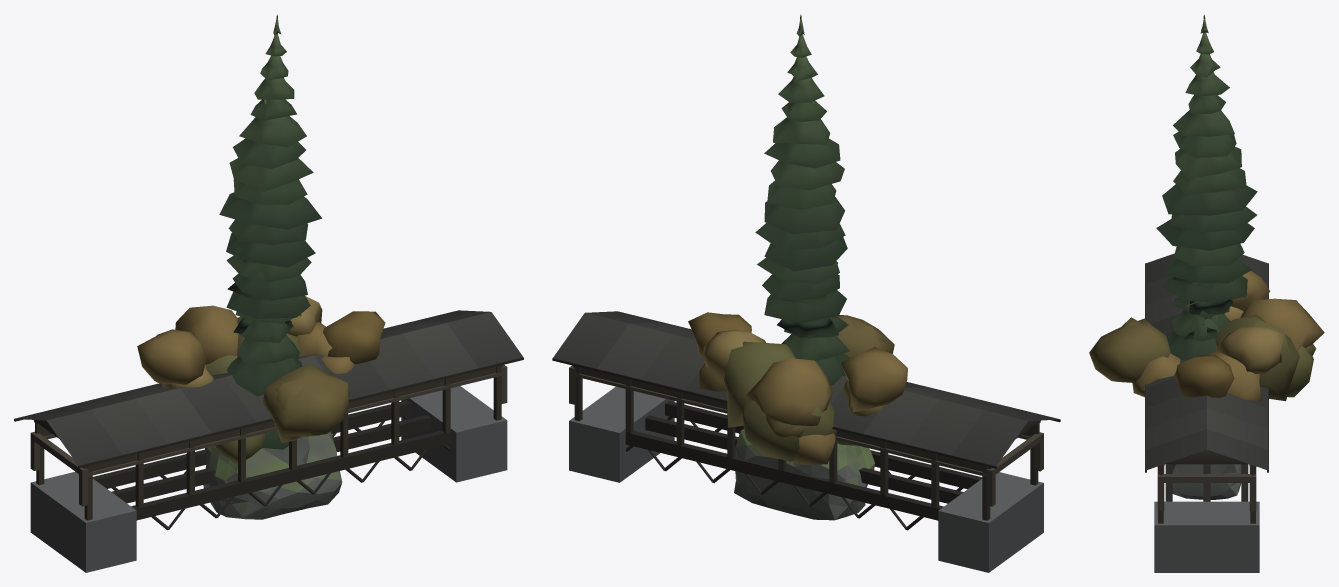
The model's file is gorge.glb.
The picture shows the model from 3 angles, left to right: view 1: azimuth 30°, elevation 25°; view 2: azimuth 150°, elevation 25°; view 3: azimuth 270°, elevation 25°; orthographic projection. The views are drawn at different scales.
Parts seen in each view (by area): view 1: g_bridge_cov, g_autumn_a, g_pine_d, g_cliff_a, g_pine_b, g_pine_a, g_autumn_b; view 2: g_bridge_cov, g_autumn_a, g_pine_d, g_cliff_a, g_pine_b, g_pine_a, g_autumn_b, g_pine_la; view 3: g_bridge_cov, g_autumn_a, g_pine_d, g_pine_b, g_pine_a, g_cliff_a, g_pine_la.
Boxes of the visible parts, x1,y1,x2,y2 form: g_bridge_cov: (14, 310, 523, 572); g_autumn_a: (137, 296, 385, 436); g_pine_d: (219, 14, 322, 267); g_cliff_a: (203, 431, 342, 519); g_pine_b: (226, 99, 311, 318); g_pine_a: (227, 271, 302, 396); g_autumn_b: (213, 356, 354, 464); g_bridge_cov: (552, 311, 1060, 572); g_autumn_a: (688, 312, 907, 461); g_pine_d: (755, 14, 847, 271); g_cliff_a: (734, 429, 874, 520); g_pine_b: (757, 101, 846, 323); g_pine_a: (784, 261, 850, 385); g_autumn_b: (766, 317, 885, 464); g_pine_la: (777, 290, 838, 337); g_bridge_cov: (1145, 253, 1268, 572); g_autumn_a: (1089, 263, 1324, 401); g_pine_d: (1156, 15, 1257, 250); g_pine_b: (1162, 244, 1251, 319); g_pine_a: (1166, 295, 1230, 361); g_cliff_a: (1172, 464, 1241, 499); g_pine_la: (1173, 277, 1233, 314).
Size of the model in its own units: 29.8 by 31.14 by 14.33.
